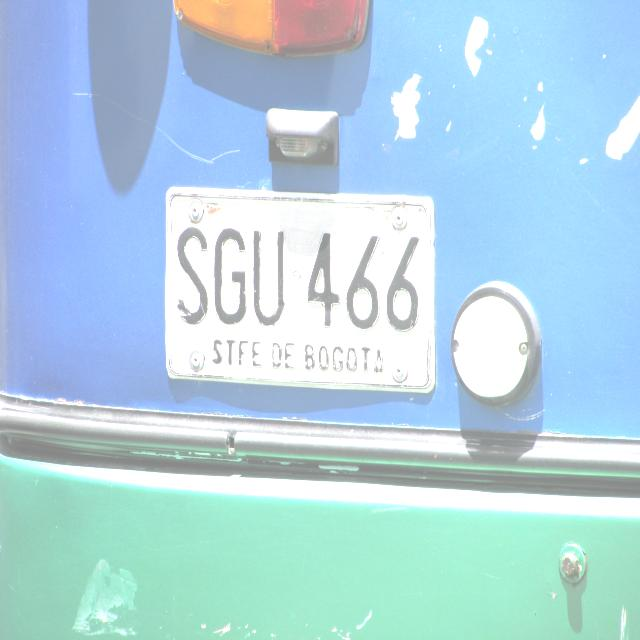placa: (161, 178, 440, 396)
